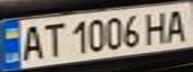0: (103, 13, 127, 51), (84, 16, 106, 53)
1: (66, 17, 90, 55)
6: (121, 11, 145, 48)
A: (15, 23, 45, 62), (160, 6, 190, 43)
H: (139, 8, 172, 45)
T: (36, 20, 66, 58)
